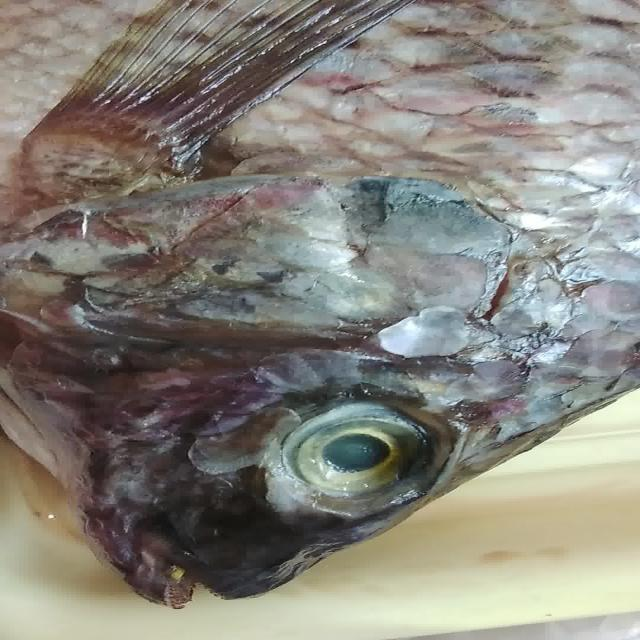Non-Fresh: (14, 11, 618, 373), (253, 386, 462, 516)
